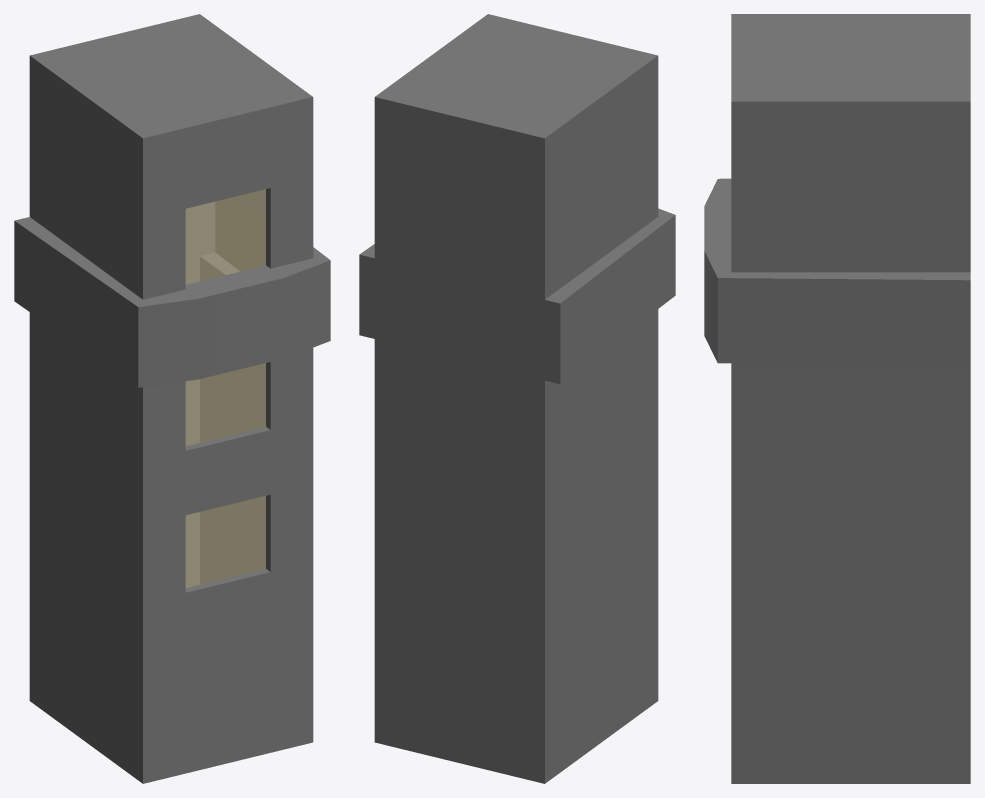
Rendered from Little Wedge Building.fbx.
The picture shows the model from 3 angles, left to right: view 1: azimuth 30°, elevation 25°; view 2: azimuth 150°, elevation 25°; view 3: azimuth 270°, elevation 25°; orthographic projection. The views are drawn at different scales.
Visible parts, largest first — view 1: Little_Wedge_Building; view 2: Little_Wedge_Building; view 3: Little_Wedge_Building.
Boxes of the visible parts, x1,y1,x2,y2 form: Little_Wedge_Building: (14,14,330,783); Little_Wedge_Building: (359,14,675,783); Little_Wedge_Building: (704,14,970,783).
Size of the model in its own units: 31.16 by 95.66 by 33.88.
